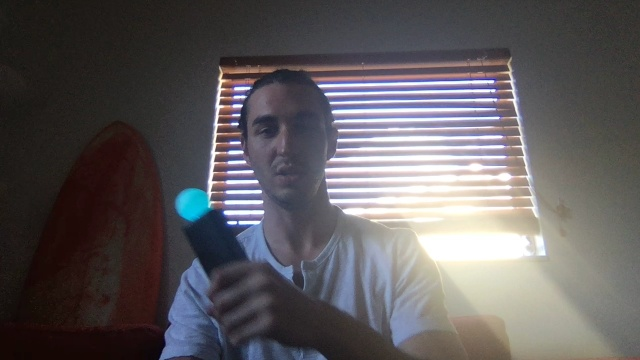wand: (178, 190, 209, 219)
